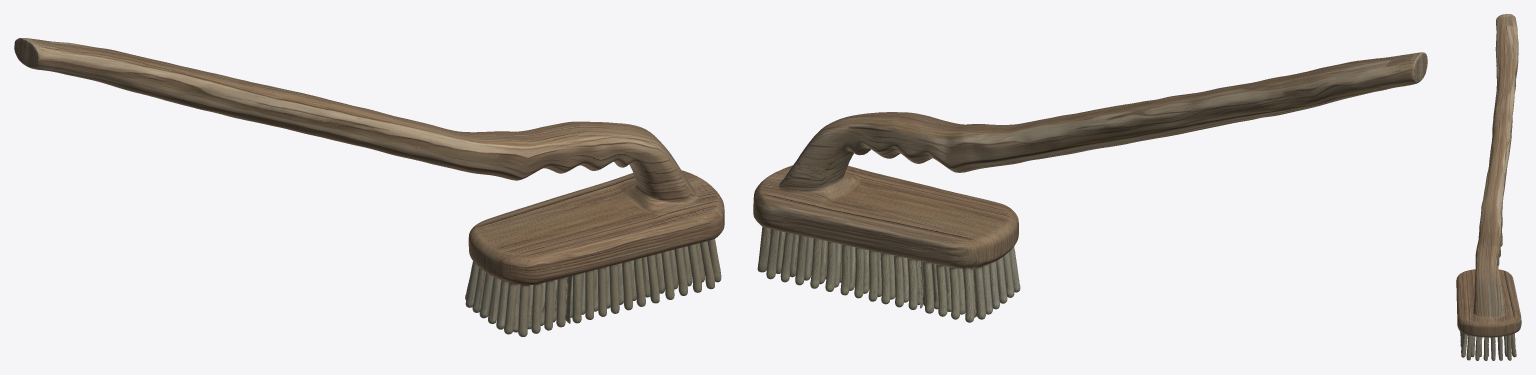
Rendered from Meshy_AI_Long_Handled_Wooden_S_0427004346_texture.fbx.
3 views of the same model, side by side, from view 1: azimuth 30°, elevation 25°; view 2: azimuth 150°, elevation 25°; view 3: azimuth 270°, elevation 25° (orthographic). The views are drawn at different scales.
Visible parts, largest first — view 1: Mesh_0; view 2: Mesh_0; view 3: Mesh_0.
Part boxes in pixels (x1,y1,x2,y2): Mesh_0: (14, 38, 724, 336); Mesh_0: (753, 52, 1427, 322); Mesh_0: (1456, 14, 1521, 360).
Bounding box in the file's own units: 190 × 101 × 31.81.
Materials: 1 (1 with a texture image).
